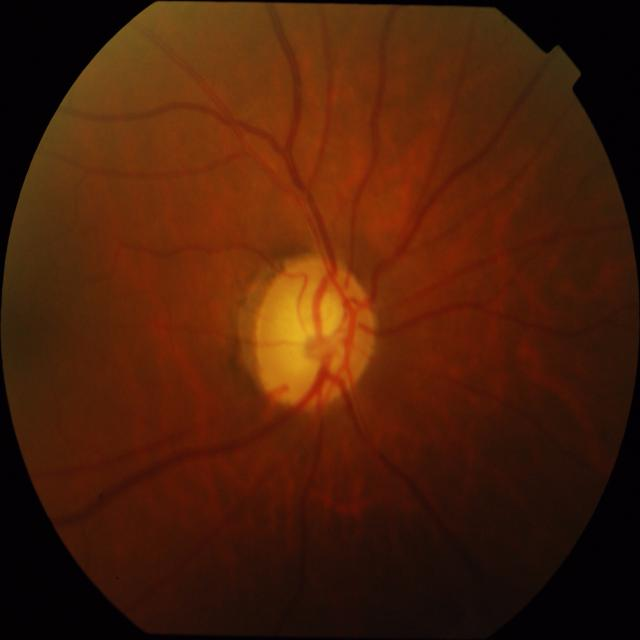OC: (273, 286, 350, 372)
OD: (254, 258, 376, 409)
